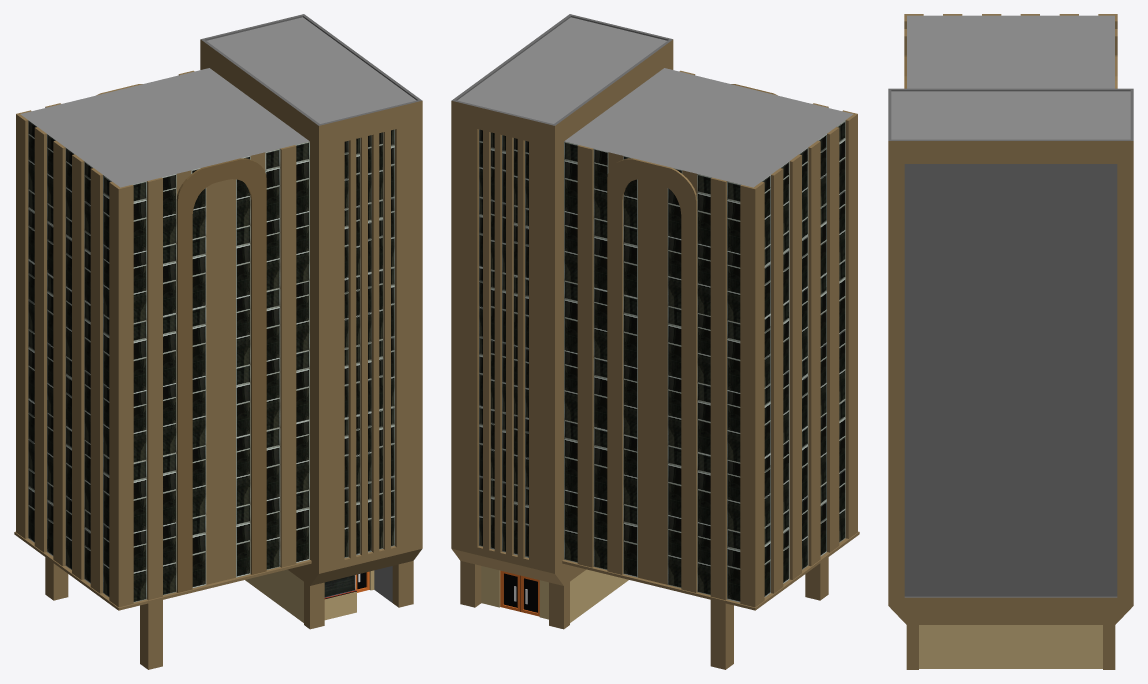
3 renders of one model, left to right at view 1: azimuth 30°, elevation 25°; view 2: azimuth 150°, elevation 25°; view 3: azimuth 270°, elevation 25°, orthographic. The views are drawn at different scales.
Parts seen in each view (by area): view 1: BB-20; view 2: BB-20; view 3: BB-20.
Boxes of the visible parts, x1,y1,x2,y2 form: BB-20: (14,14,422,669); BB-20: (451,14,859,669); BB-20: (888,14,1133,669).
Size of what is drawn, in the model's own units: 20.05 by 32.92 by 13.86.
